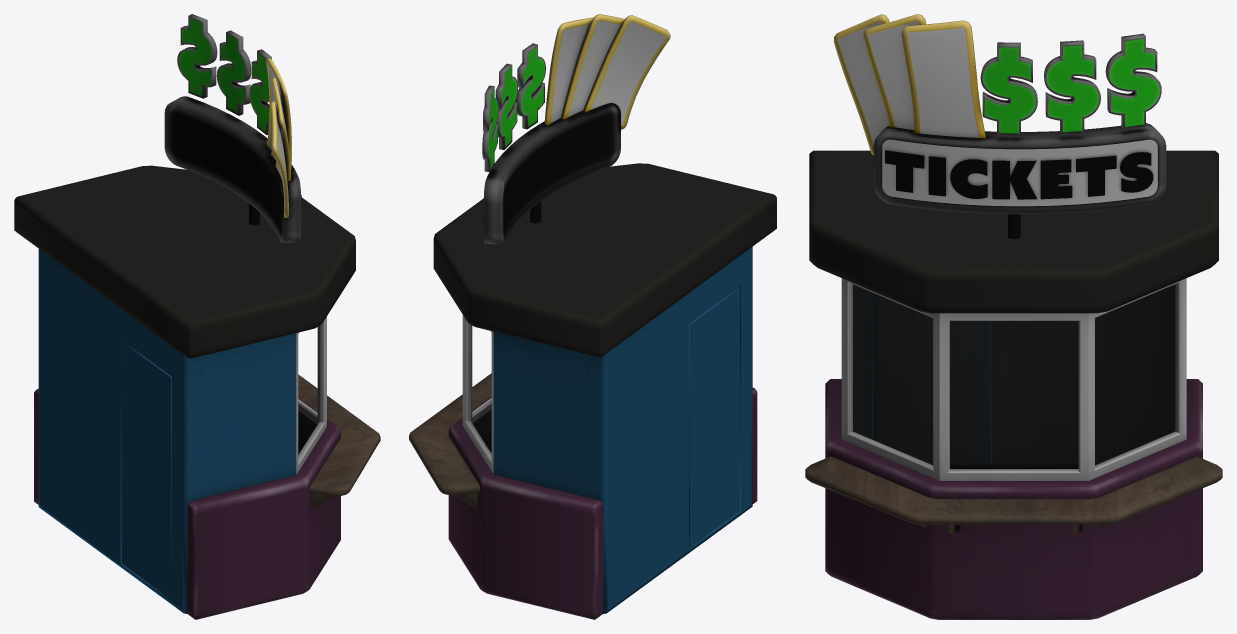
File: TicketBooth.fbx
3 renders of one model, left to right at view 1: azimuth 30°, elevation 25°; view 2: azimuth 150°, elevation 25°; view 3: azimuth 270°, elevation 25°, orthographic. The views are drawn at different scales.
Parts seen in each view (by area): view 1: booth_1; view 2: booth_1; view 3: booth_1.
Boxes of the visible parts, bbox=[...] form: booth_1: bbox=[14, 14, 380, 619]; booth_1: bbox=[409, 14, 776, 619]; booth_1: bbox=[805, 14, 1222, 619].
Bounding box in the file's own units: 227 × 444 × 296.
Materials: 2 (2 with a texture image).
